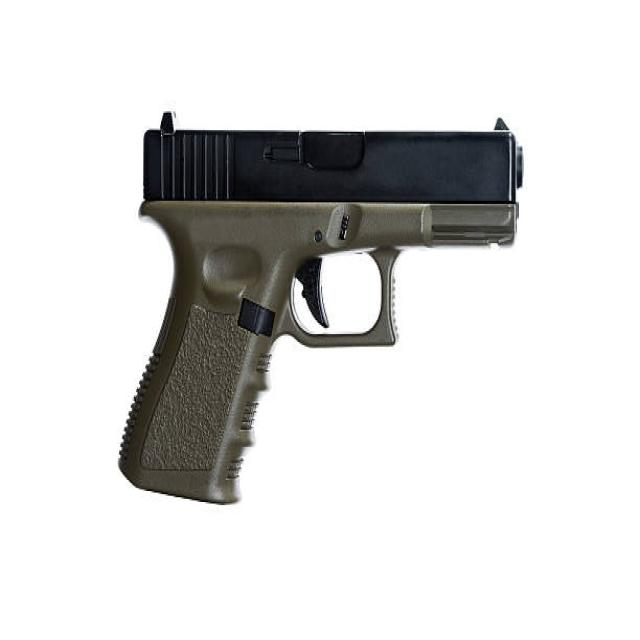pistol: (113, 107, 528, 510)
